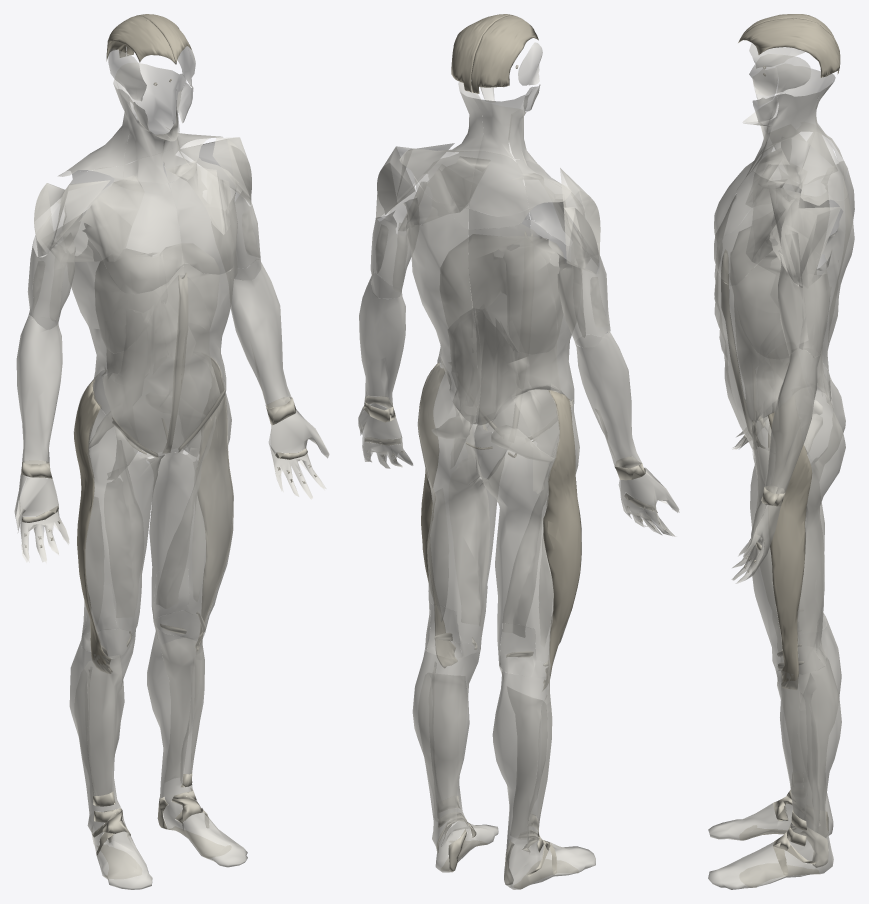
File: adult_male.fascia.LOD3.glb
3 views of the same model, side by side, from view 1: azimuth 30°, elevation 25°; view 2: azimuth 150°, elevation 25°; view 3: azimuth 270°, elevation 25° (orthographic). The views are drawn at different scales.
Visible parts, largest first — view 1: ADULT.MALE.FASCIA.INVESTING_ABDOMINAL_FASCIA.R, ADULT.MALE.FASCIA.FASCIA_LATA.L, ADULT.MALE.FASCIA.INVESTING_ABDOMINAL_FASCIA.L, ADULT.MALE.FASCIA.FASCIA_LATA.R, ADULT.MALE.FASCIA.TRANSVERSALIS_FASCIA, ADULT.MALE.FASCIA.CRURAL_FASCIA.L, ADULT.MALE.FASCIA.CRURAL_FASCIA.R, ADULT.MALE.FASCIA.PECTORAL_FASCIA.R, ADULT.MALE.FASCIA.DIAPHRAGMATIC_FASCIA, ADULT.MALE.FASCIA.PECTORAL_FASCIA.L, ADULT.MALE.FASCIA.ILIOTIBIAL_TRACT.L, ADULT.MALE.FASCIA.SUPERFICIAL_INVESTING_CERVICAL_FASCIA.L (+29 smaller); view 2: ADULT.MALE.FASCIA.INVESTING_ABDOMINAL_FASCIA.R, ADULT.MALE.FASCIA.FASCIA_LATA.R, ADULT.MALE.FASCIA.FASCIA_LATA.L, ADULT.MALE.FASCIA.CRURAL_FASCIA.R, ADULT.MALE.FASCIA.INVESTING_ABDOMINAL_FASCIA.L, ADULT.MALE.FASCIA.DIAPHRAGMATIC_FASCIA, ADULT.MALE.FASCIA.CRURAL_FASCIA.L, ADULT.MALE.FASCIA.SUPERFICIAL_INVESTING_CERVICAL_FASCIA.R, ADULT.MALE.FASCIA.ILIOTIBIAL_TRACT.R, ADULT.MALE.FASCIA.SUPERFICIAL_INVESTING_CERVICAL_FASCIA.L, ADULT.MALE.FASCIA.MEDIAL_FEMORAL_INTERMUSCULAR_SEPTUM.L, ADULT.MALE.FASCIA.ANTEBRACHIAL_FASCIA.R (+32 smaller); view 3: ADULT.MALE.FASCIA.INVESTING_ABDOMINAL_FASCIA.L, ADULT.MALE.FASCIA.CRURAL_FASCIA.L, ADULT.MALE.FASCIA.FASCIA_LATA.L, ADULT.MALE.FASCIA.ILIOTIBIAL_TRACT.L, ADULT.MALE.FASCIA.SUPERFICIAL_INVESTING_CERVICAL_FASCIA.L, ADULT.MALE.FASCIA.INVESTING_ABDOMINAL_FASCIA.R, ADULT.MALE.FASCIA.DIAPHRAGMATIC_FASCIA, ADULT.MALE.FASCIA.PECTORAL_FASCIA.L, ADULT.MALE.FASCIA.ANTEBRACHIAL_FASCIA.L, ADULT.MALE.FASCIA.SUPERFICIAL_INVESTING_CERVICAL_FASCIA.R, ADULT.MALE.FASCIA.DELTOID_FASCIA.L, ADULT.MALE.FASCIA.BRACHIAL_FASCIA.L (+25 smaller).
Part boxes in pixels (x1,y1,x2,y2): ADULT.MALE.FASCIA.INVESTING_ABDOMINAL_FASCIA.R: [57, 165, 185, 457]; ADULT.MALE.FASCIA.FASCIA_LATA.L: [141, 379, 233, 638]; ADULT.MALE.FASCIA.INVESTING_ABDOMINAL_FASCIA.L: [124, 144, 234, 452]; ADULT.MALE.FASCIA.FASCIA_LATA.R: [73, 370, 166, 658]; ADULT.MALE.FASCIA.TRANSVERSALIS_FASCIA: [102, 275, 219, 452]; ADULT.MALE.FASCIA.CRURAL_FASCIA.L: [147, 611, 247, 867]; ADULT.MALE.FASCIA.CRURAL_FASCIA.R: [69, 629, 152, 889]; ADULT.MALE.FASCIA.PECTORAL_FASCIA.R: [79, 178, 183, 294]; ADULT.MALE.FASCIA.DIAPHRAGMATIC_FASCIA: [95, 243, 219, 352]; ADULT.MALE.FASCIA.PECTORAL_FASCIA.L: [169, 158, 238, 274]; ADULT.MALE.FASCIA.ILIOTIBIAL_TRACT.L: [194, 357, 233, 651]; ADULT.MALE.FASCIA.SUPERFICIAL_INVESTING_CERVICAL_FASCIA.L: [124, 63, 223, 182]; ADULT.MALE.FASCIA.INVESTING_ABDOMINAL_FASCIA.R: [468, 207, 574, 436]; ADULT.MALE.FASCIA.FASCIA_LATA.R: [474, 389, 581, 677]; ADULT.MALE.FASCIA.FASCIA_LATA.L: [417, 363, 506, 657]; ADULT.MALE.FASCIA.CRURAL_FASCIA.R: [492, 657, 595, 889]; ADULT.MALE.FASCIA.INVESTING_ABDOMINAL_FASCIA.L: [402, 178, 530, 424]; ADULT.MALE.FASCIA.DIAPHRAGMATIC_FASCIA: [440, 234, 564, 354]; ADULT.MALE.FASCIA.CRURAL_FASCIA.L: [412, 641, 498, 872]; ADULT.MALE.FASCIA.SUPERFICIAL_INVESTING_CERVICAL_FASCIA.R: [468, 87, 571, 216]; ADULT.MALE.FASCIA.ILIOTIBIAL_TRACT.R: [542, 390, 581, 690]; ADULT.MALE.FASCIA.SUPERFICIAL_INVESTING_CERVICAL_FASCIA.L: [399, 80, 518, 208]; ADULT.MALE.FASCIA.MEDIAL_FEMORAL_INTERMUSCULAR_SEPTUM.L: [449, 428, 489, 625]; ADULT.MALE.FASCIA.ANTEBRACHIAL_FASCIA.R: [575, 330, 641, 468]; ADULT.MALE.FASCIA.INVESTING_ABDOMINAL_FASCIA.L: [714, 188, 854, 448]; ADULT.MALE.FASCIA.CRURAL_FASCIA.L: [708, 646, 841, 889]; ADULT.MALE.FASCIA.FASCIA_LATA.L: [751, 389, 845, 674]; ADULT.MALE.FASCIA.ILIOTIBIAL_TRACT.L: [768, 396, 812, 689]; ADULT.MALE.FASCIA.SUPERFICIAL_INVESTING_CERVICAL_FASCIA.L: [743, 78, 847, 205]; ADULT.MALE.FASCIA.INVESTING_ABDOMINAL_FASCIA.R: [714, 161, 854, 439]; ADULT.MALE.FASCIA.DIAPHRAGMATIC_FASCIA: [731, 225, 815, 359]; ADULT.MALE.FASCIA.PECTORAL_FASCIA.L: [714, 171, 776, 285]; ADULT.MALE.FASCIA.ANTEBRACHIAL_FASCIA.L: [764, 348, 820, 493]; ADULT.MALE.FASCIA.SUPERFICIAL_INVESTING_CERVICAL_FASCIA.R: [743, 64, 847, 180]; ADULT.MALE.FASCIA.DELTOID_FASCIA.L: [768, 185, 840, 288]; ADULT.MALE.FASCIA.BRACHIAL_FASCIA.L: [778, 248, 832, 357].
Bounding box in the file's own units: 0.6695 × 1.7 × 0.2694.
